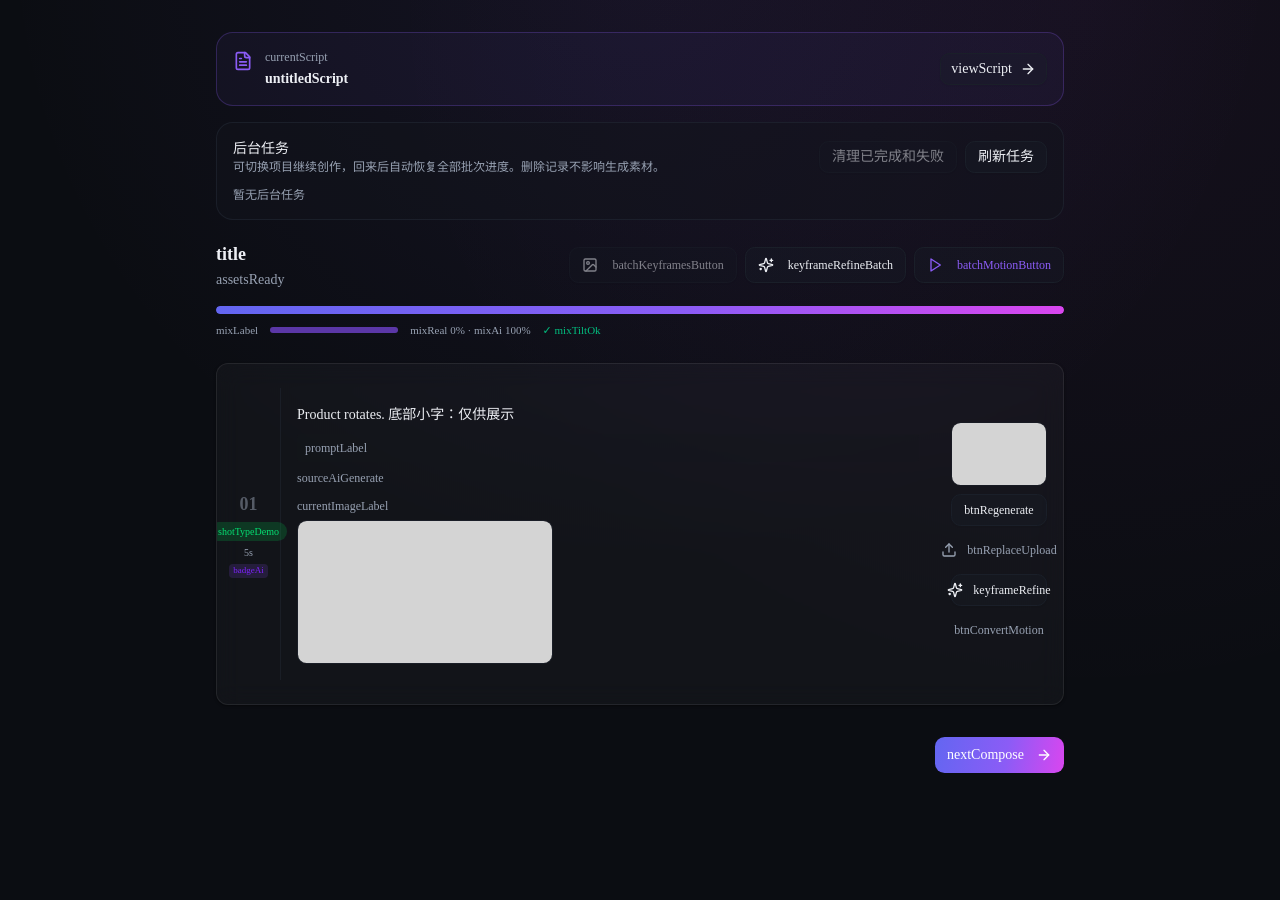
Test: image background result reconciliation › clears the local generating indicator when an accepted image task fails
Click the button "btnRegenerate" at (999, 510), box [951,494,1047,526]
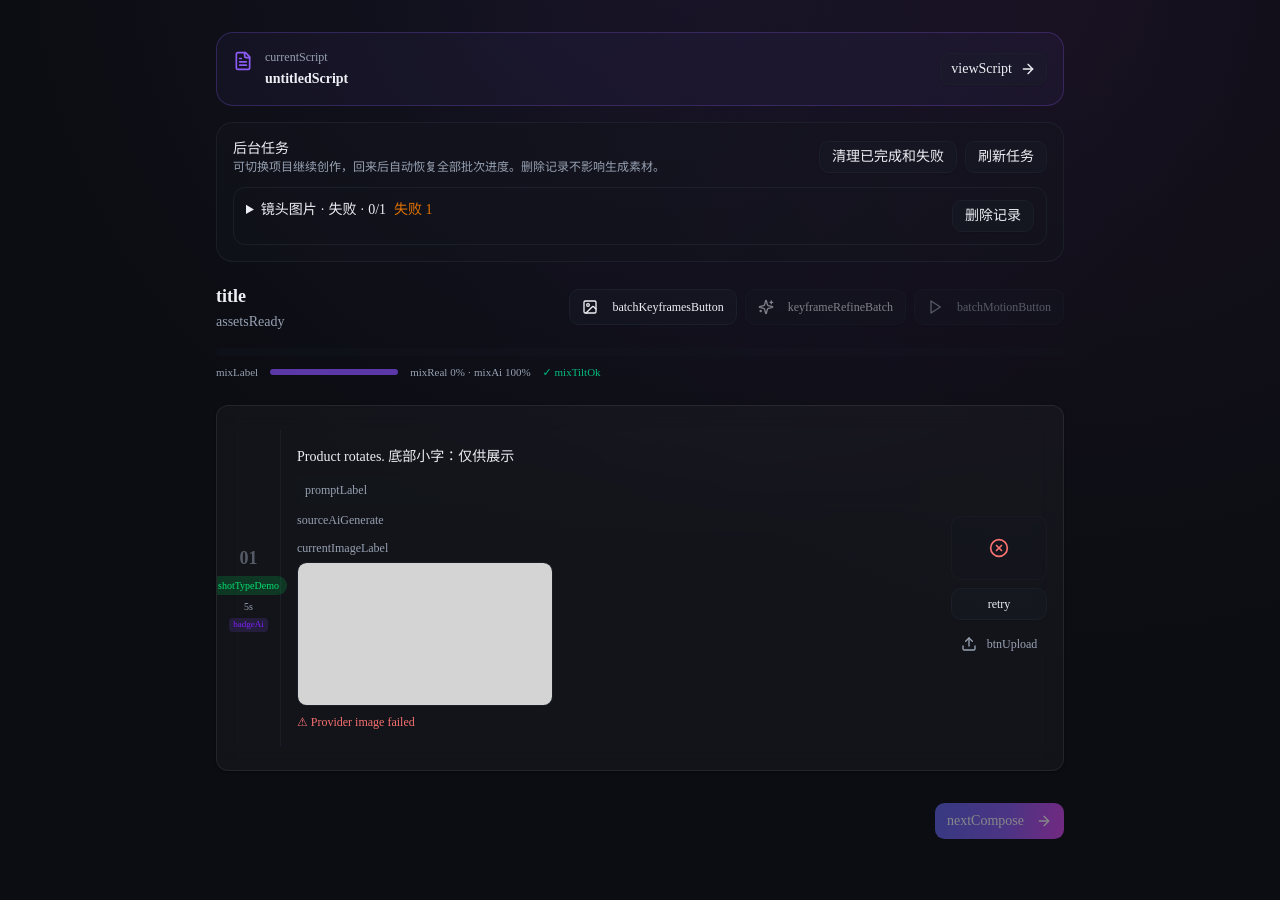
Expected: the button "retry" is enabled, [951,588,1047,620]
Expected: the text "Provider image failed" is shown, [311,715,415,729]
